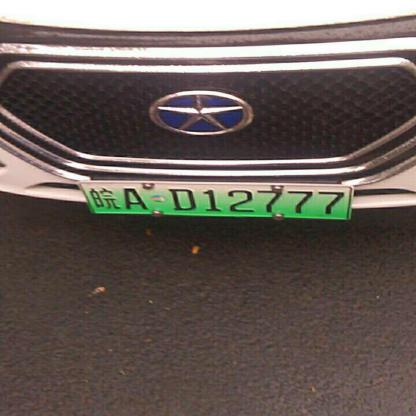lp: (77, 182, 351, 218)
